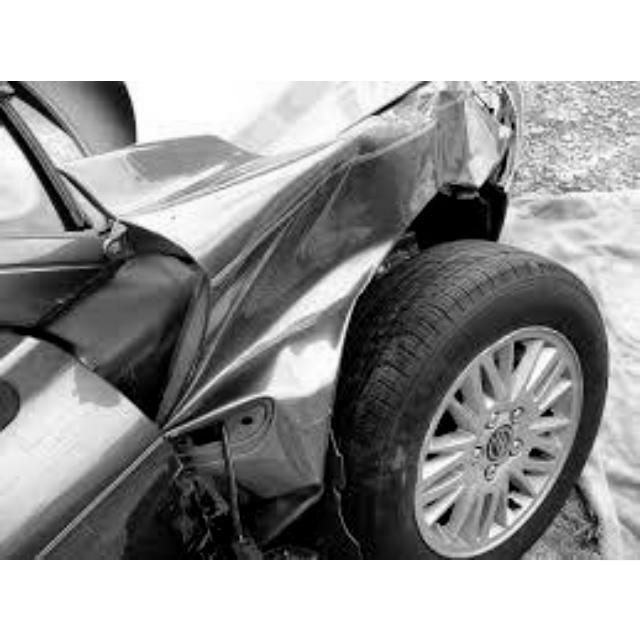fender-dent: (179, 100, 532, 359)
